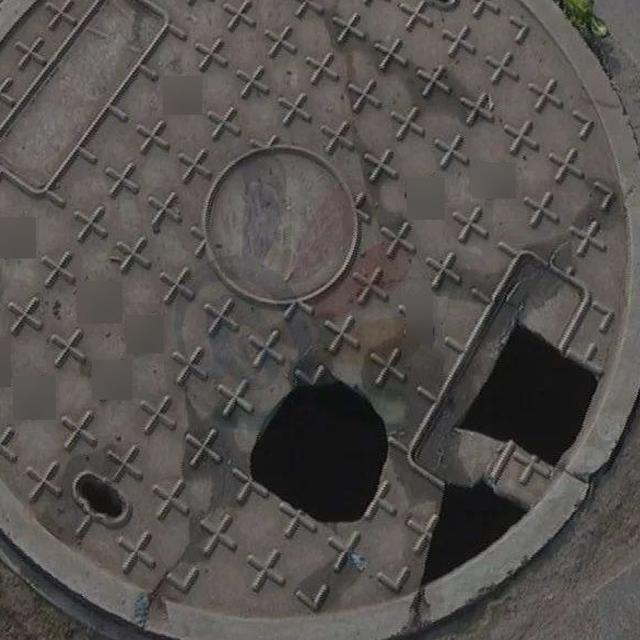broke: (0, 0, 625, 628)
